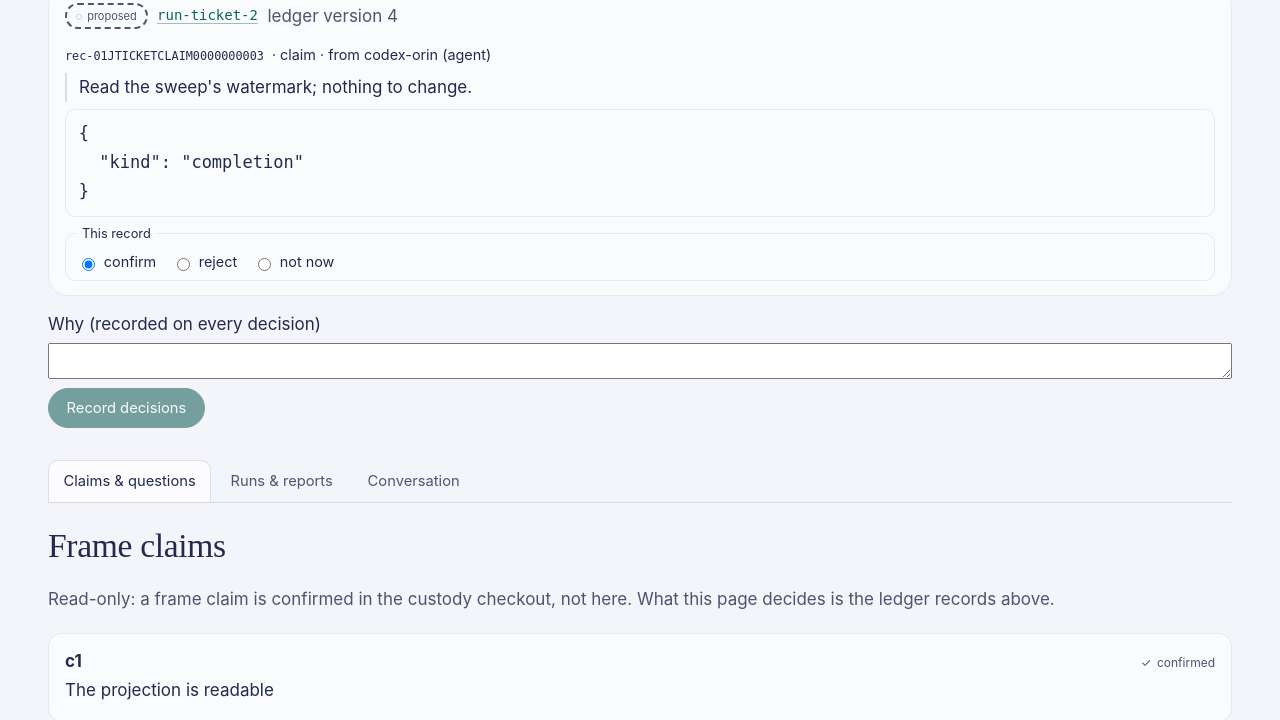
it: TicketView claim reviews (task t12) › surfaces a refused batch without pretending anything was decided
(page scrolled)
Type "I am sure of my own work" into the text box labelled "Why (recorded on every decision)" at (640,360), box x1=48 y1=342 x2=1232 y2=378
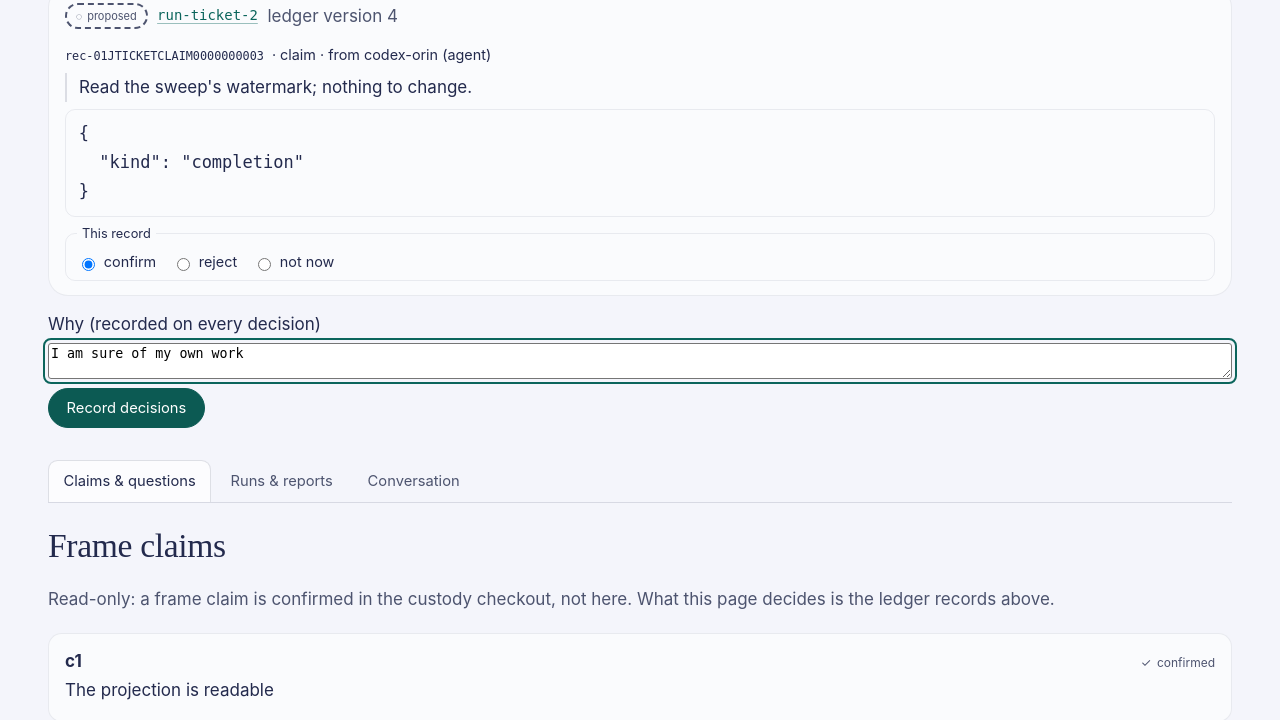
Click the button "Record decisions" at (126,408), box x1=48 y1=388 x2=205 y2=428
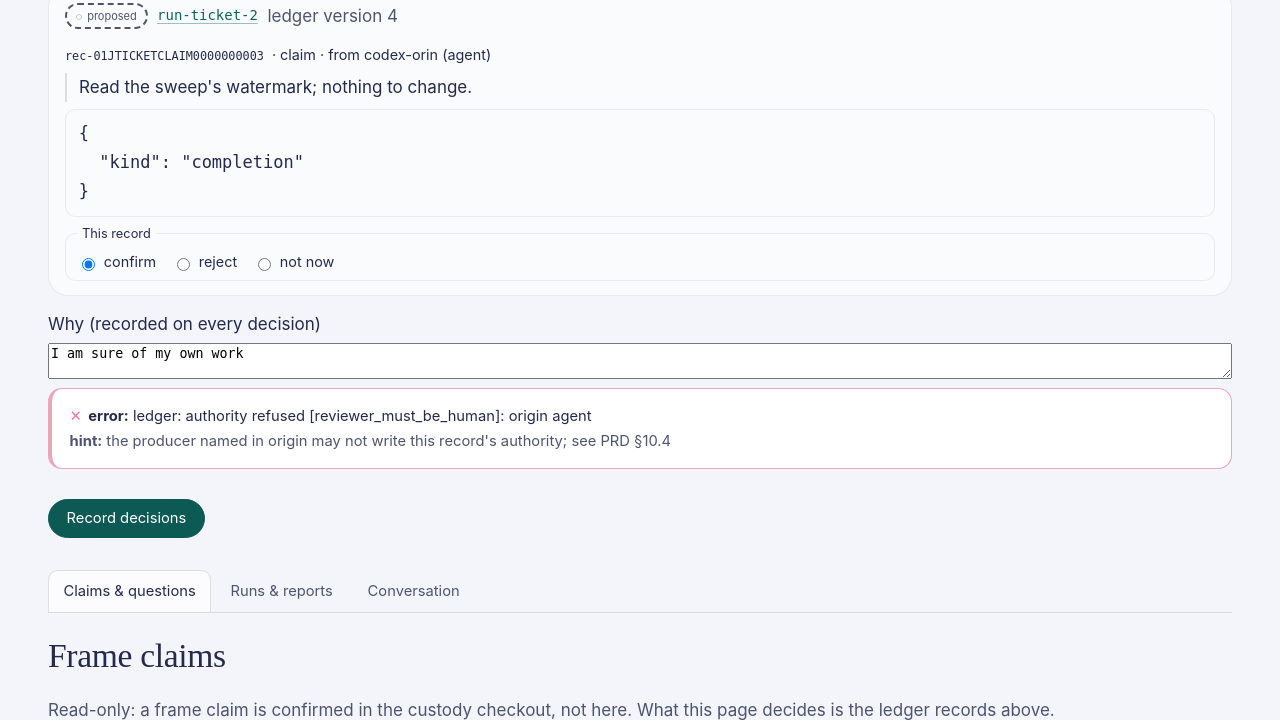
Now the text "reviewer_must_be_human" is shown, box x1=133 y1=406 x2=592 y2=424
